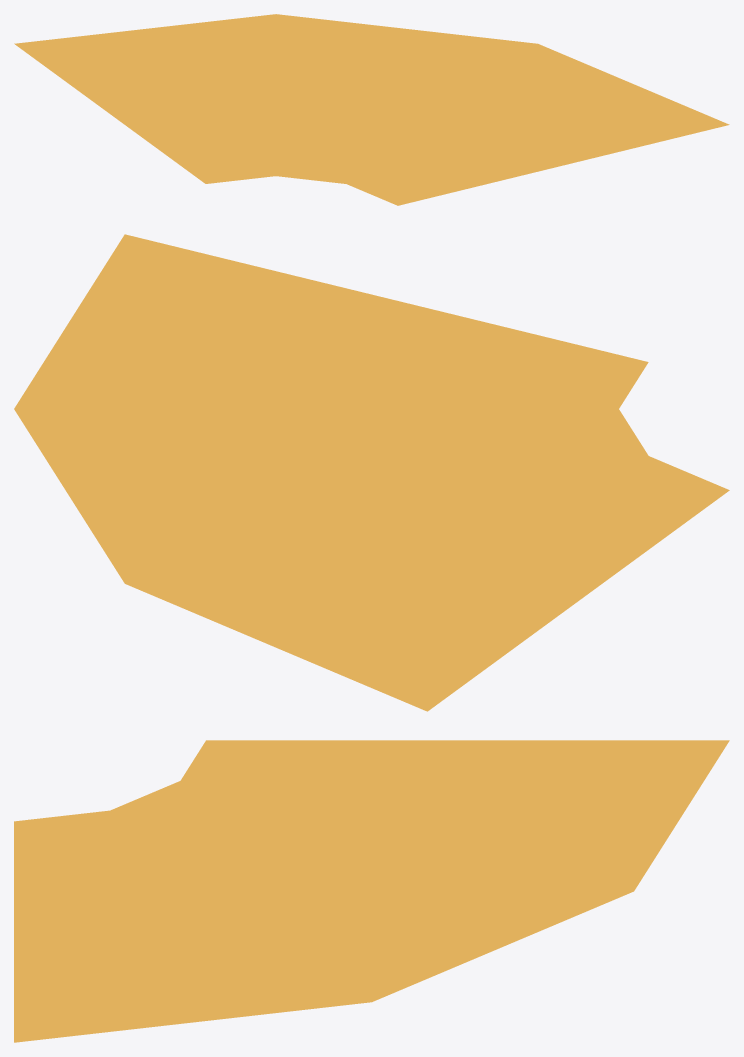
3 views of the same model, one above another, from view 1: azimuth 30°, elevation 25°; view 2: azimuth 150°, elevation 25°; view 3: azimuth 270°, elevation 25° (orthographic). The views are drawn at different scales.
Visible parts, largest first — view 1: Tube001; view 2: Tube001; view 3: Tube001.
Part boxes in pixels (left/top/right/bottom): Tube001: left=14, top=14, right=729, bottom=205; Tube001: left=14, top=234, right=729, bottom=711; Tube001: left=14, top=740, right=729, bottom=1042.
Bounding box in the file's own units: 60.52 × 3.71e-15 × 60.52.
